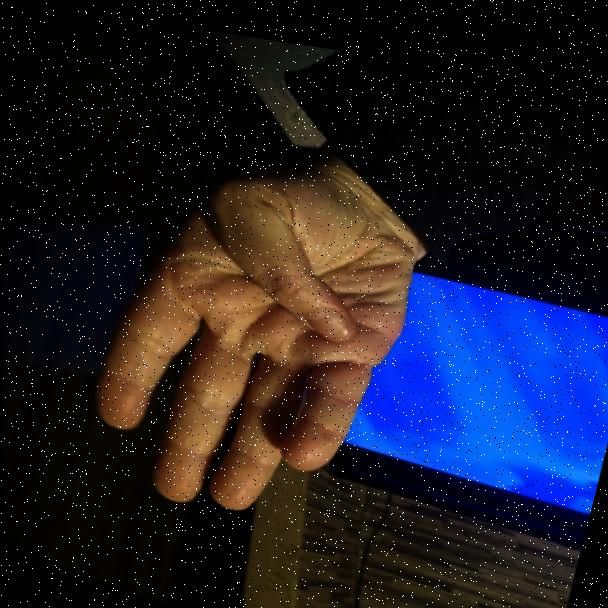four: (63, 99, 441, 577)
